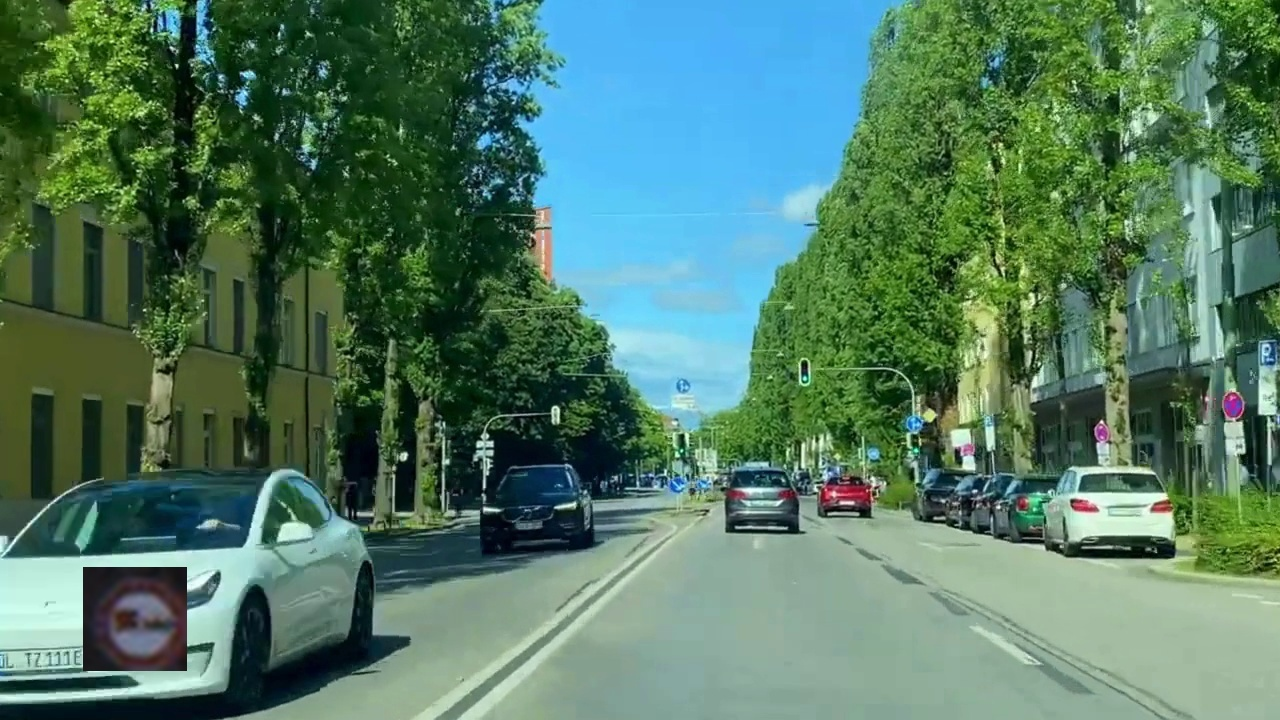No pass >3.5t: (83, 567, 187, 671)
